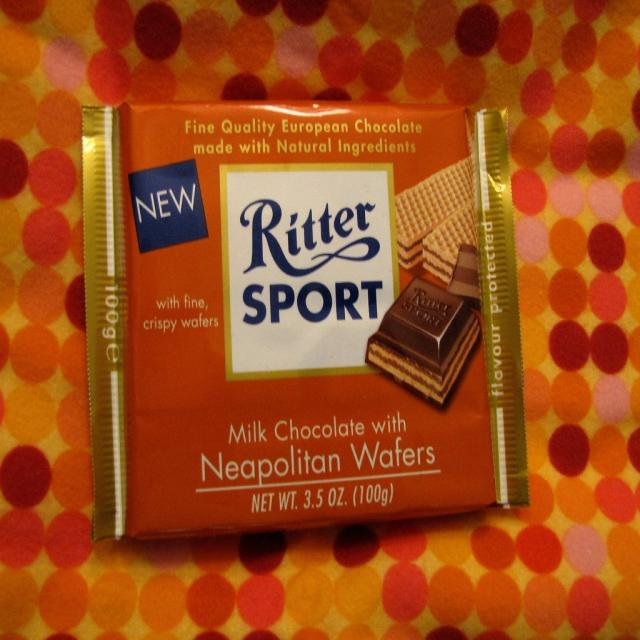rittersport: (221, 164, 407, 382)
